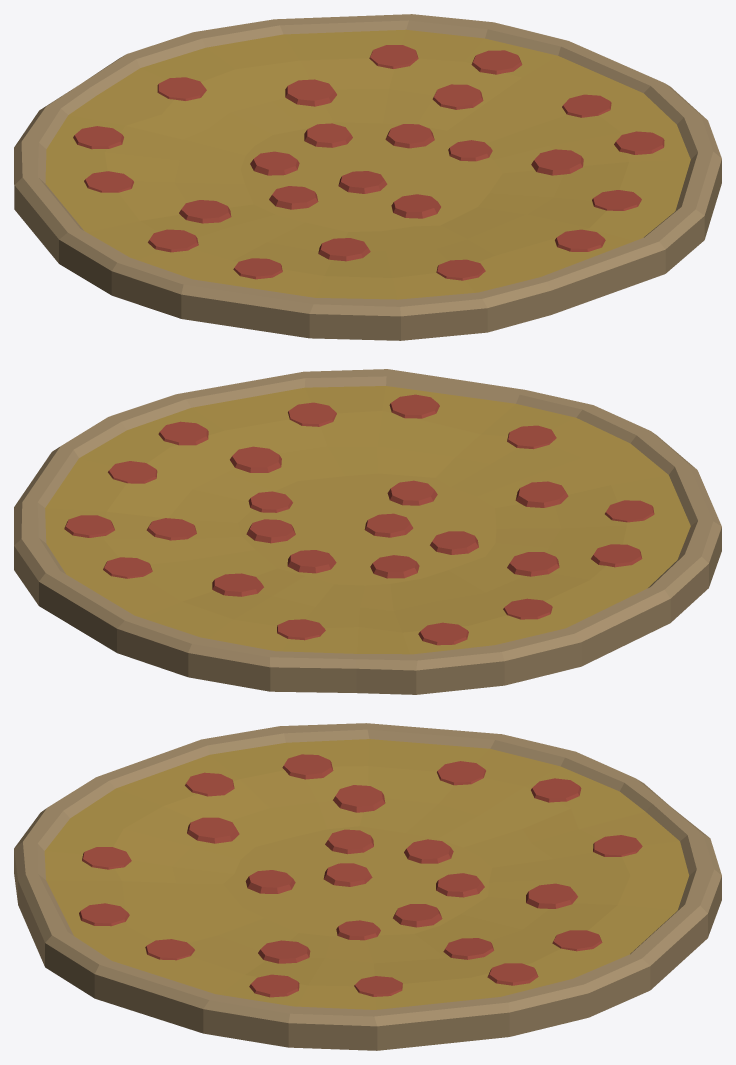
The model's file is Pizza.glb.
The picture shows the model from 3 angles, top to bottom: view 1: azimuth 30°, elevation 25°; view 2: azimuth 150°, elevation 25°; view 3: azimuth 270°, elevation 25°; orthographic projection.
Parts seen in each view (by area): view 1: Pizza; view 2: Pizza; view 3: Pizza.
Part boxes in pixels (x1,y1,x2,y2): Pizza: [14, 14, 721, 340]; Pizza: [14, 369, 721, 694]; Pizza: [14, 723, 721, 1050].
Size of the model in its own units: 3.37 by 0.1609 by 3.36.
